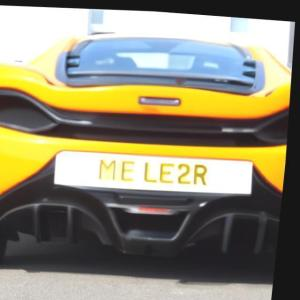Plate: (54, 151, 252, 194)
